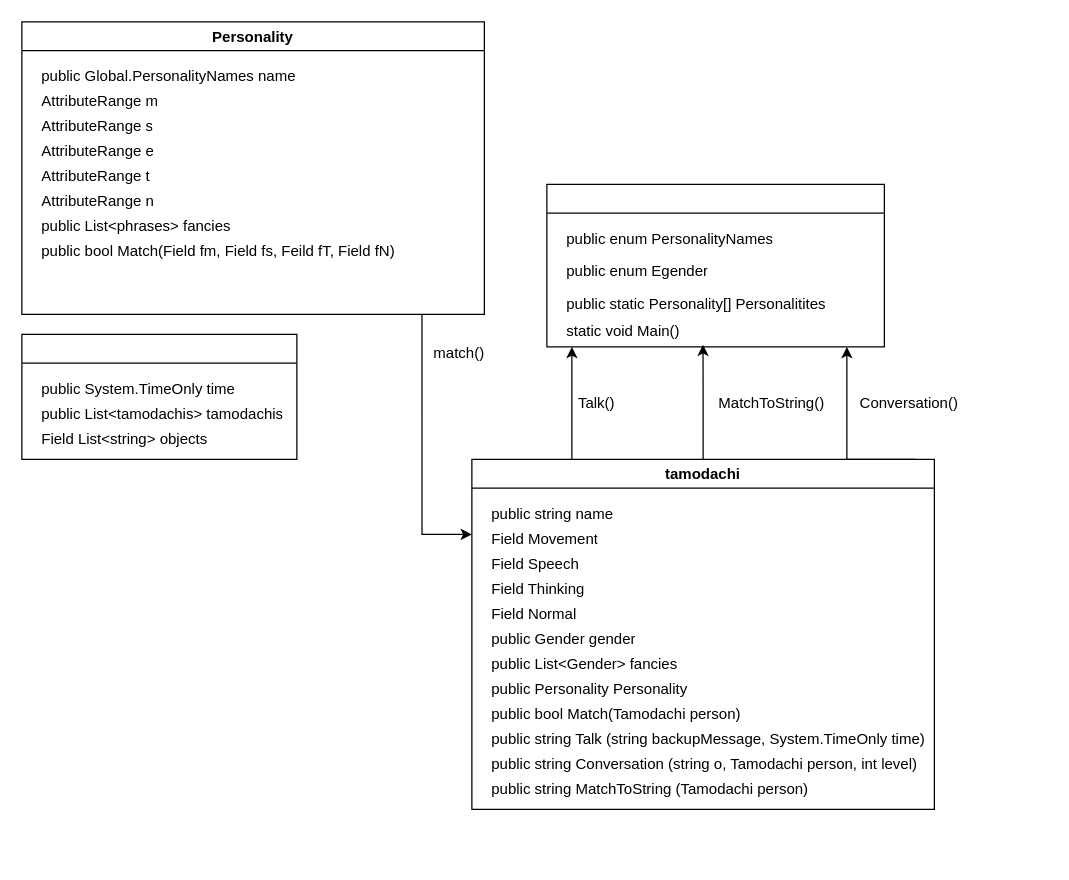
Image size: 1069x880. Some labels were removed from this diagram. The shapes that lost their labels are listed below. From the top down, each one's box as (x1, y1, x2, y2) in pixels, then its label:
(546, 183, 884, 347): Global
(21, 333, 297, 459): Program
